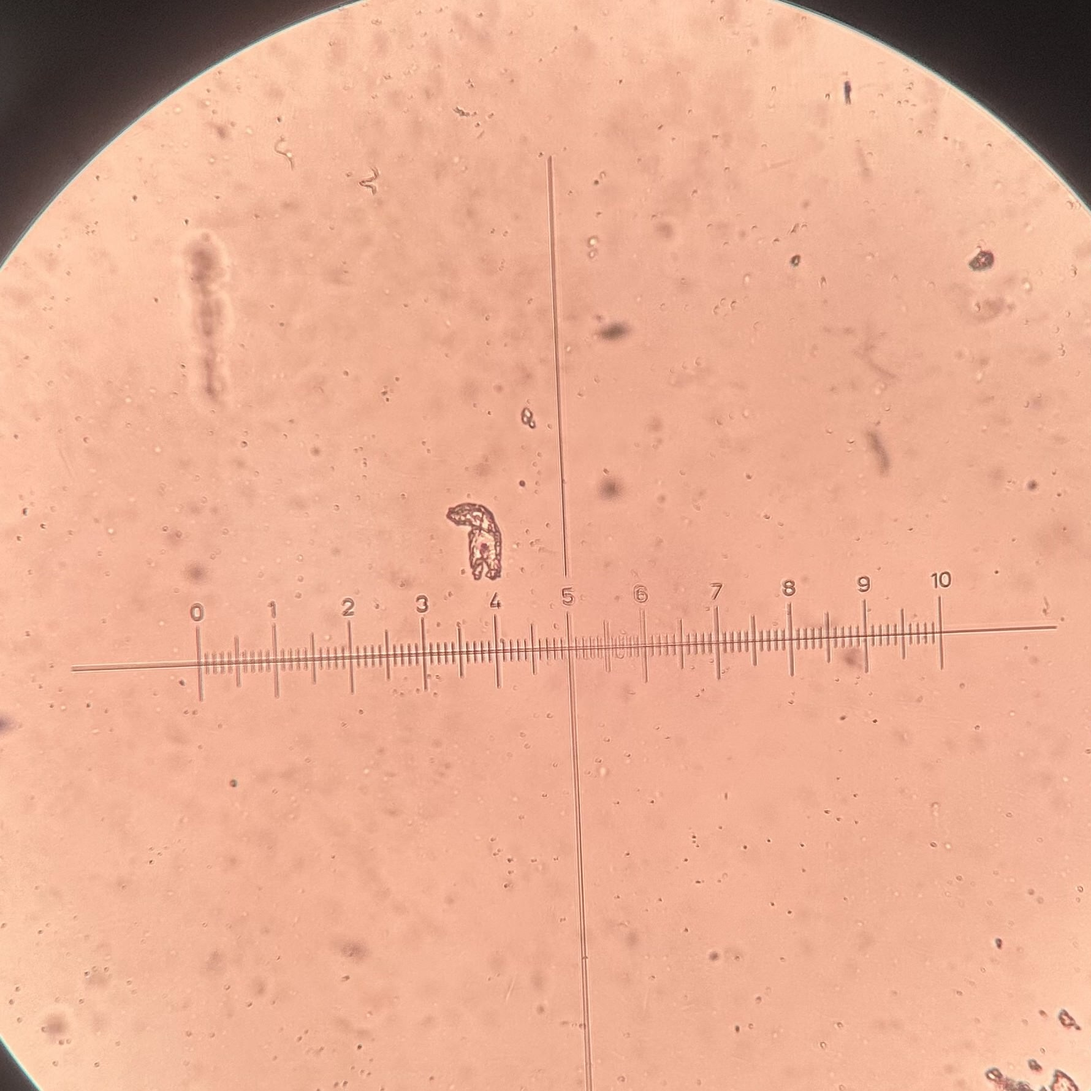not_microplastic: (182, 229, 238, 411), (435, 501, 516, 584), (981, 1060, 1030, 1091), (1046, 1073, 1081, 1091), (971, 249, 998, 270), (1051, 1012, 1079, 1030)
